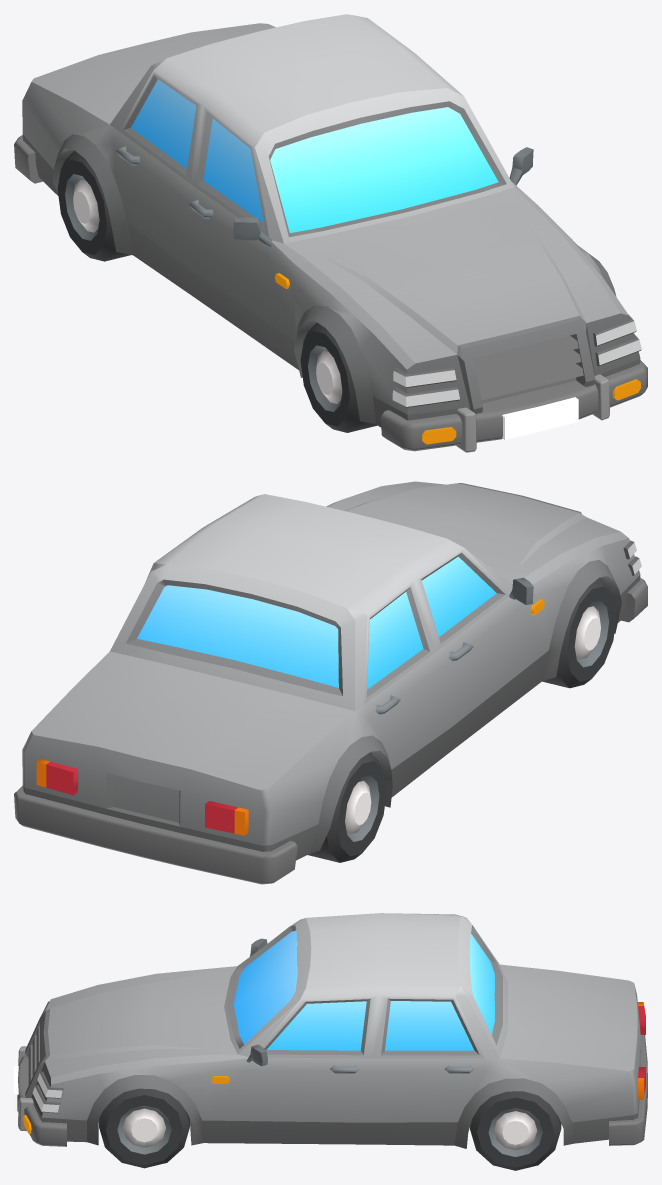
The model's file is Car_24.glb.
The picture shows the model from 3 angles, top to bottom: view 1: azimuth 30°, elevation 25°; view 2: azimuth 150°, elevation 25°; view 3: azimuth 270°, elevation 25°; orthographic projection. The views are drawn at different scales.
Parts seen in each view (by area): view 1: Car_24, Wheel_137, Wheel_138; view 2: Car_24, Wheel_138, Wheel_137; view 3: Car_24, Wheel_139, Wheel_140.
Part boxes in pixels (x1=…): Car_24: x1=14, y1=14, x2=647, y2=452; Wheel_137: x1=300, y1=322, x2=377, y2=432; Wheel_138: x1=57, y1=150, x2=130, y2=261; Car_24: x1=14, y1=481, x2=647, y2=884; Wheel_138: x1=308, y1=752, x2=386, y2=862; Wheel_137: x1=542, y1=577, x2=616, y2=688; Car_24: x1=14, y1=913, x2=647, y2=1148; Wheel_139: x1=99, y1=1088, x2=189, y2=1168; Wheel_140: x1=470, y1=1091, x2=561, y2=1170.
Bounding box in the file's own units: 2.53 × 1.81 × 5.9.
Materials: 2 (2 with a texture image).
